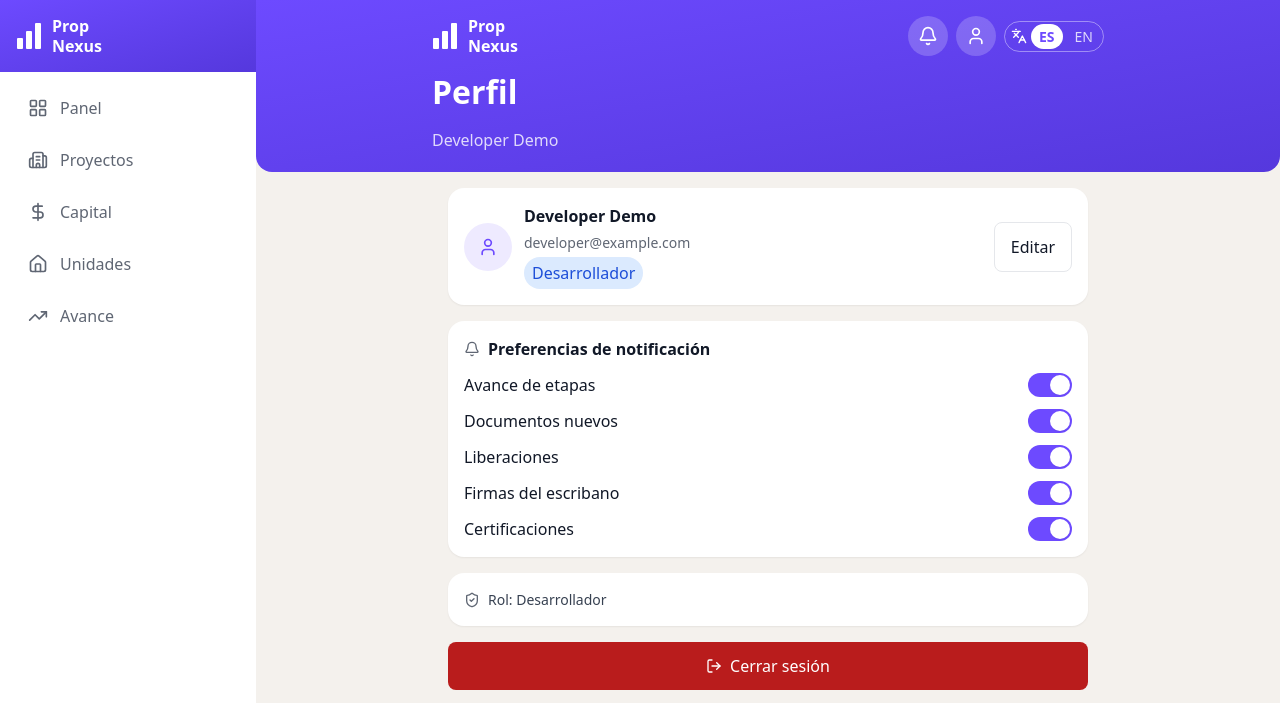
ProfileScreen › edición del nombre › guarda el nombre recortado, cierra el formulario y vuelve a leer el perfil
Click the button "Editar" at {"x": 1033, "y": 246}, box top-left (994, 222), bottom-right (1072, 272)
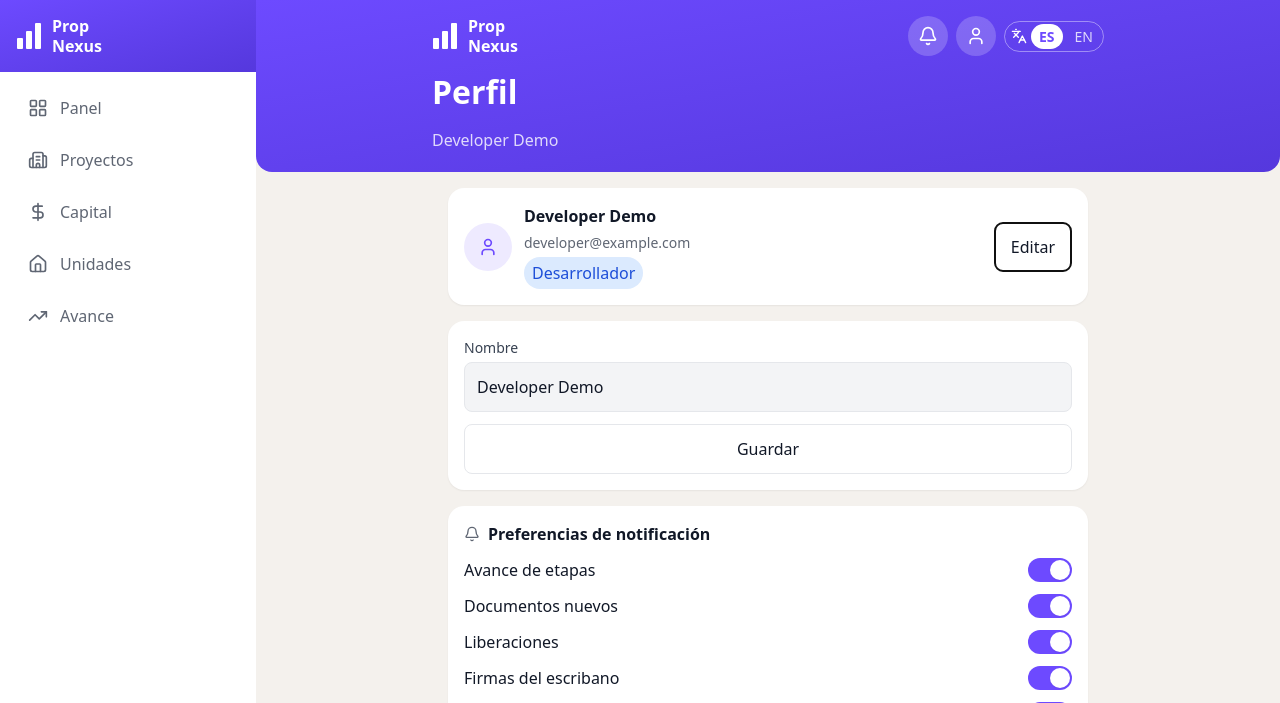
Replace the text in the field labelled "Nombre" with "  Ana Torres  " at {"x": 768, "y": 387}, box top-left (464, 362), bottom-right (1072, 412)
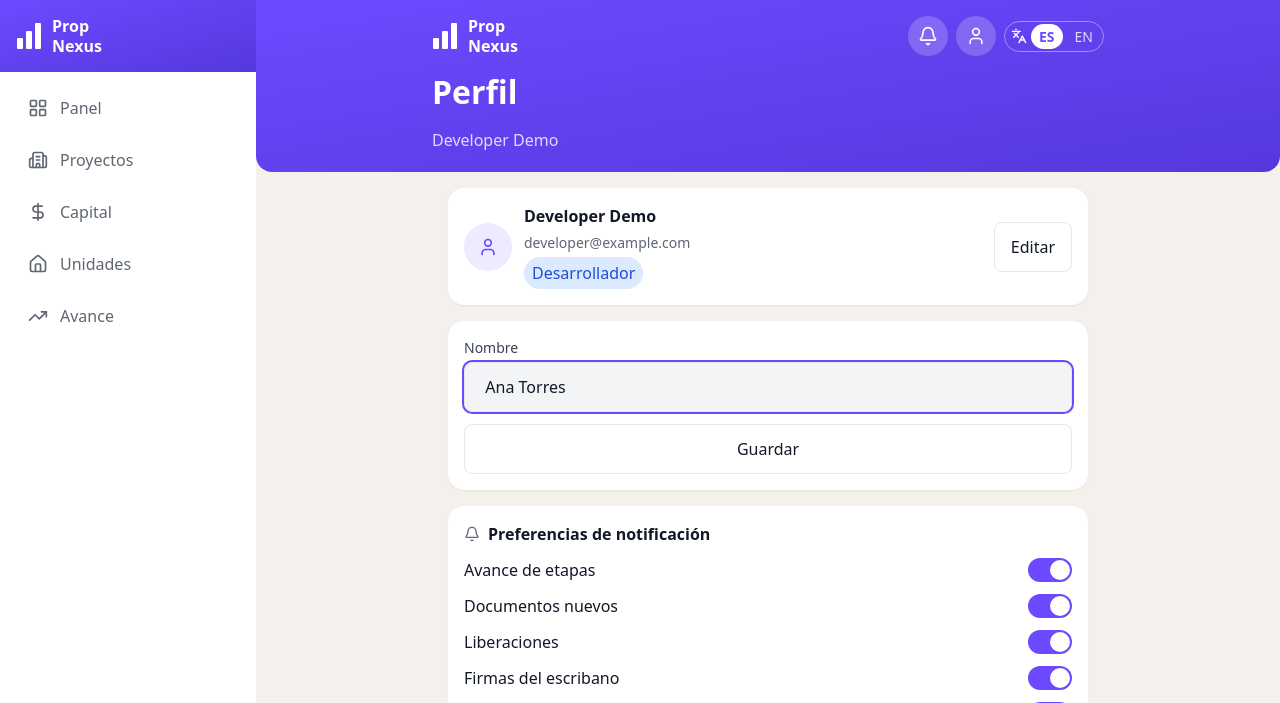
Click the button "Guardar" at {"x": 768, "y": 449}, box top-left (464, 424), bottom-right (1072, 474)
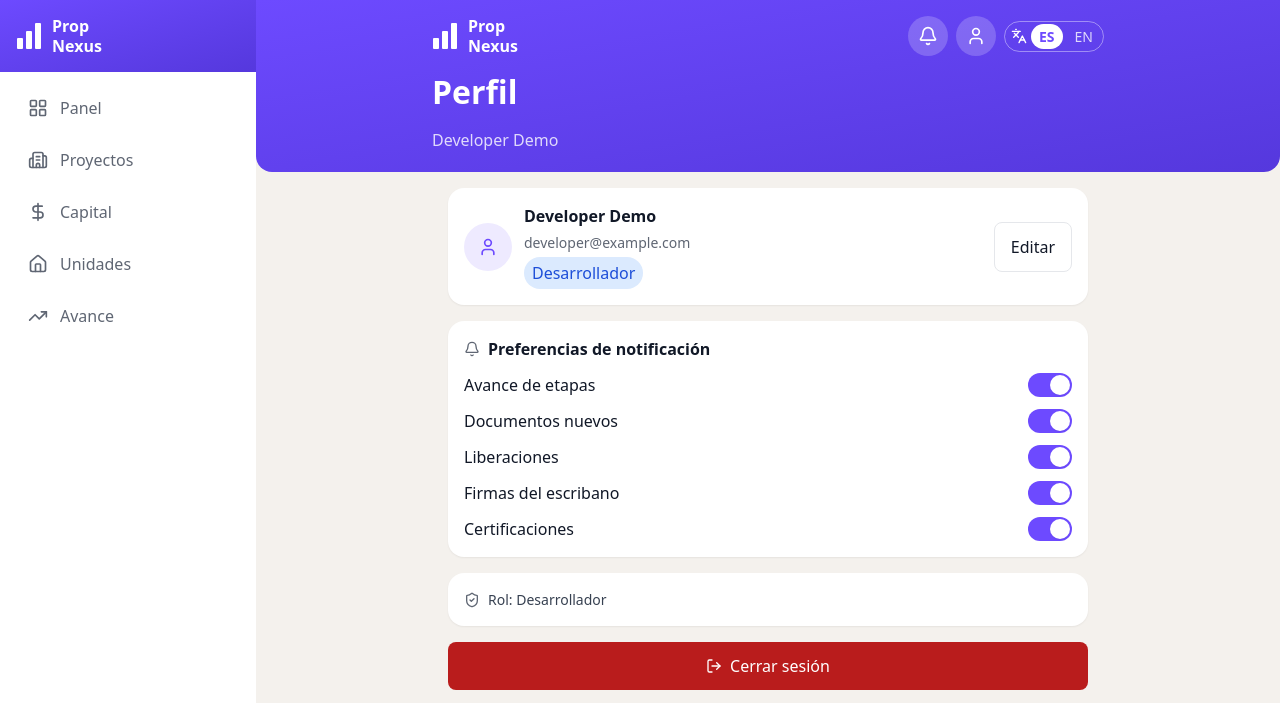
Now the form with test id "EDIT-001" is gone
